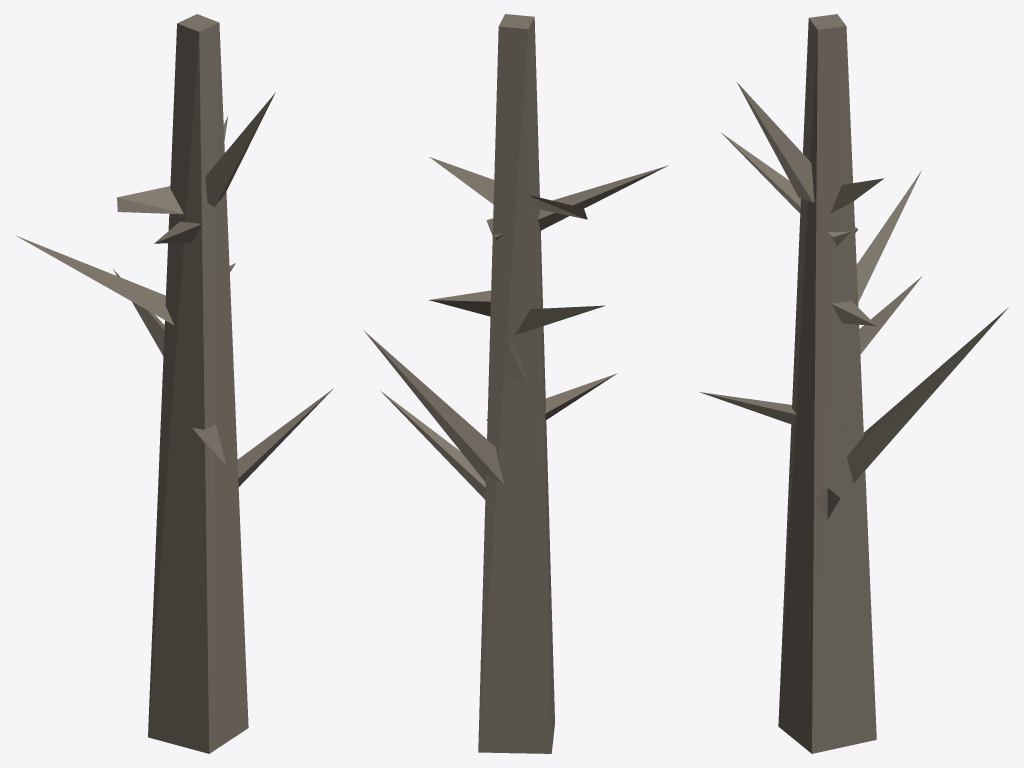
Rendered from dead_tree_LOD2.fbx.
3 renders of one model, left to right at view 1: azimuth 30°, elevation 25°; view 2: azimuth 150°, elevation 25°; view 3: azimuth 270°, elevation 25°, orthographic.
Parts seen in each view (by area): view 1: dead_tree_LOD2; view 2: dead_tree_LOD2; view 3: dead_tree_LOD2.
Part boxes in pixels (<box>): dead_tree_LOD2: <box>16,14,333,753</box>; dead_tree_LOD2: <box>363,14,668,753</box>; dead_tree_LOD2: <box>699,14,1008,753</box>.
Size of the model in its own units: 261 by 650 by 258.
